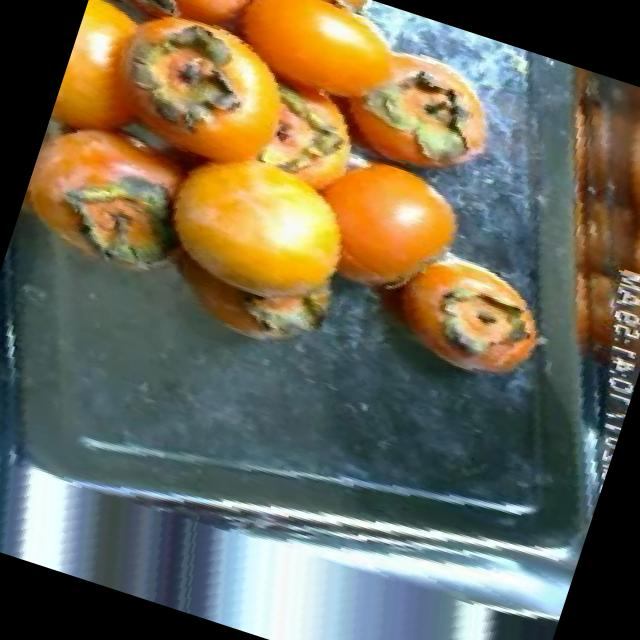Fruit: (382, 240, 568, 410)
